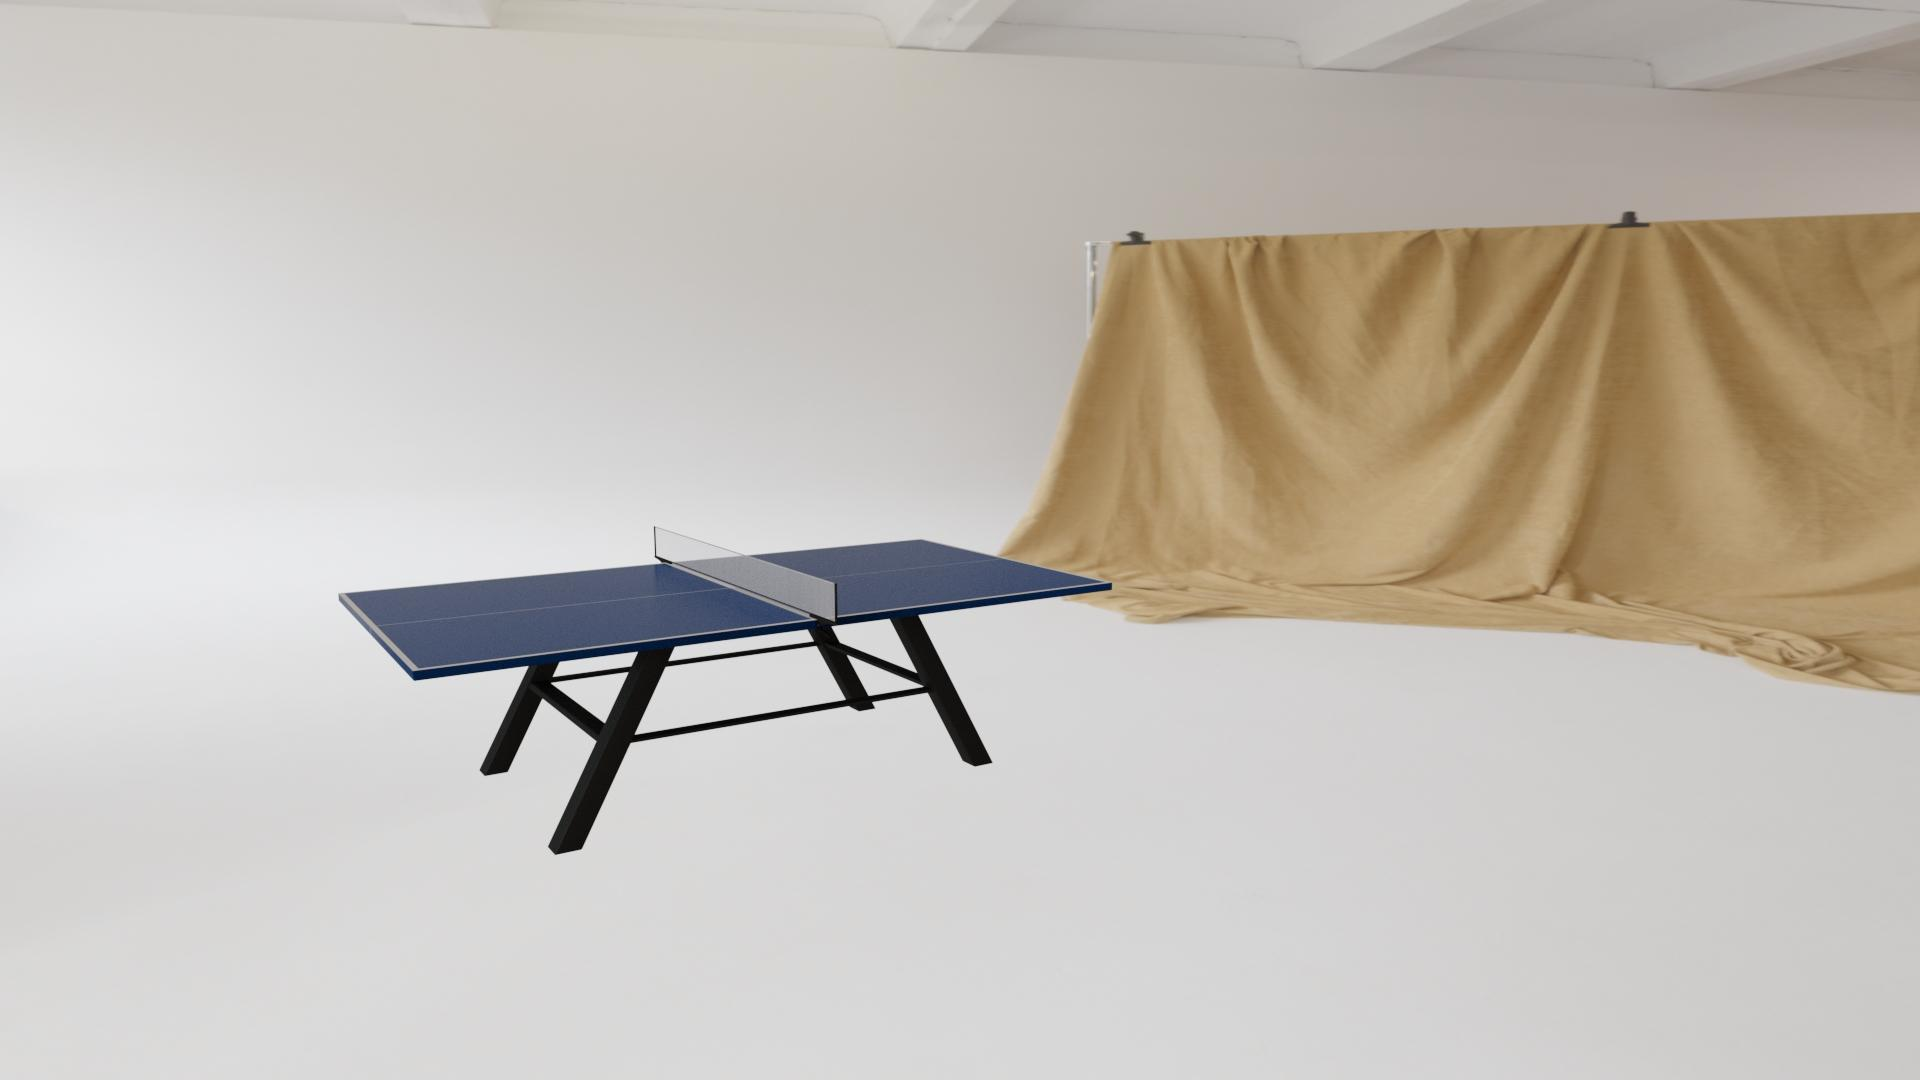table: (344, 539, 1106, 669)
